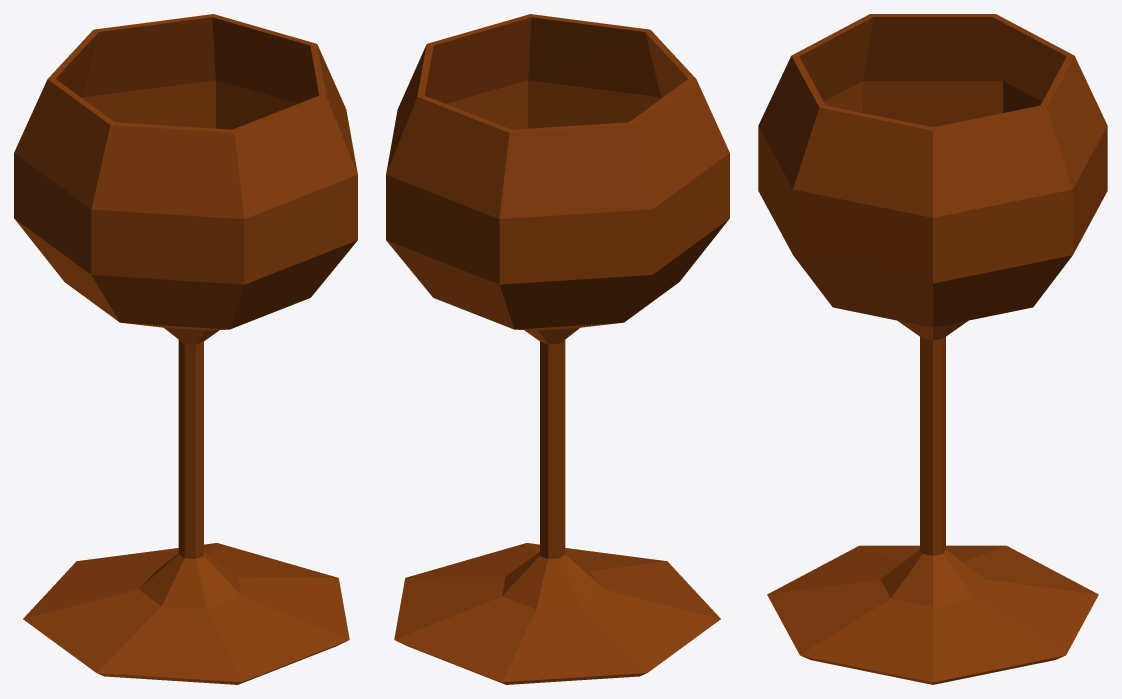
Rendered from obj_glass_4.FBX.
The picture shows the model from 3 angles, left to right: view 1: azimuth 30°, elevation 25°; view 2: azimuth 150°, elevation 25°; view 3: azimuth 270°, elevation 25°; orthographic projection.
Parts seen in each view (by area): view 1: Object004; view 2: Object004; view 3: Object004.
Boxes of the visible parts, x1,y1,x2,y2 form: Object004: [14, 14, 357, 684]; Object004: [386, 14, 729, 684]; Object004: [758, 14, 1107, 684].
Size of the model in its own units: 20.9 by 37.24 by 21.44.
